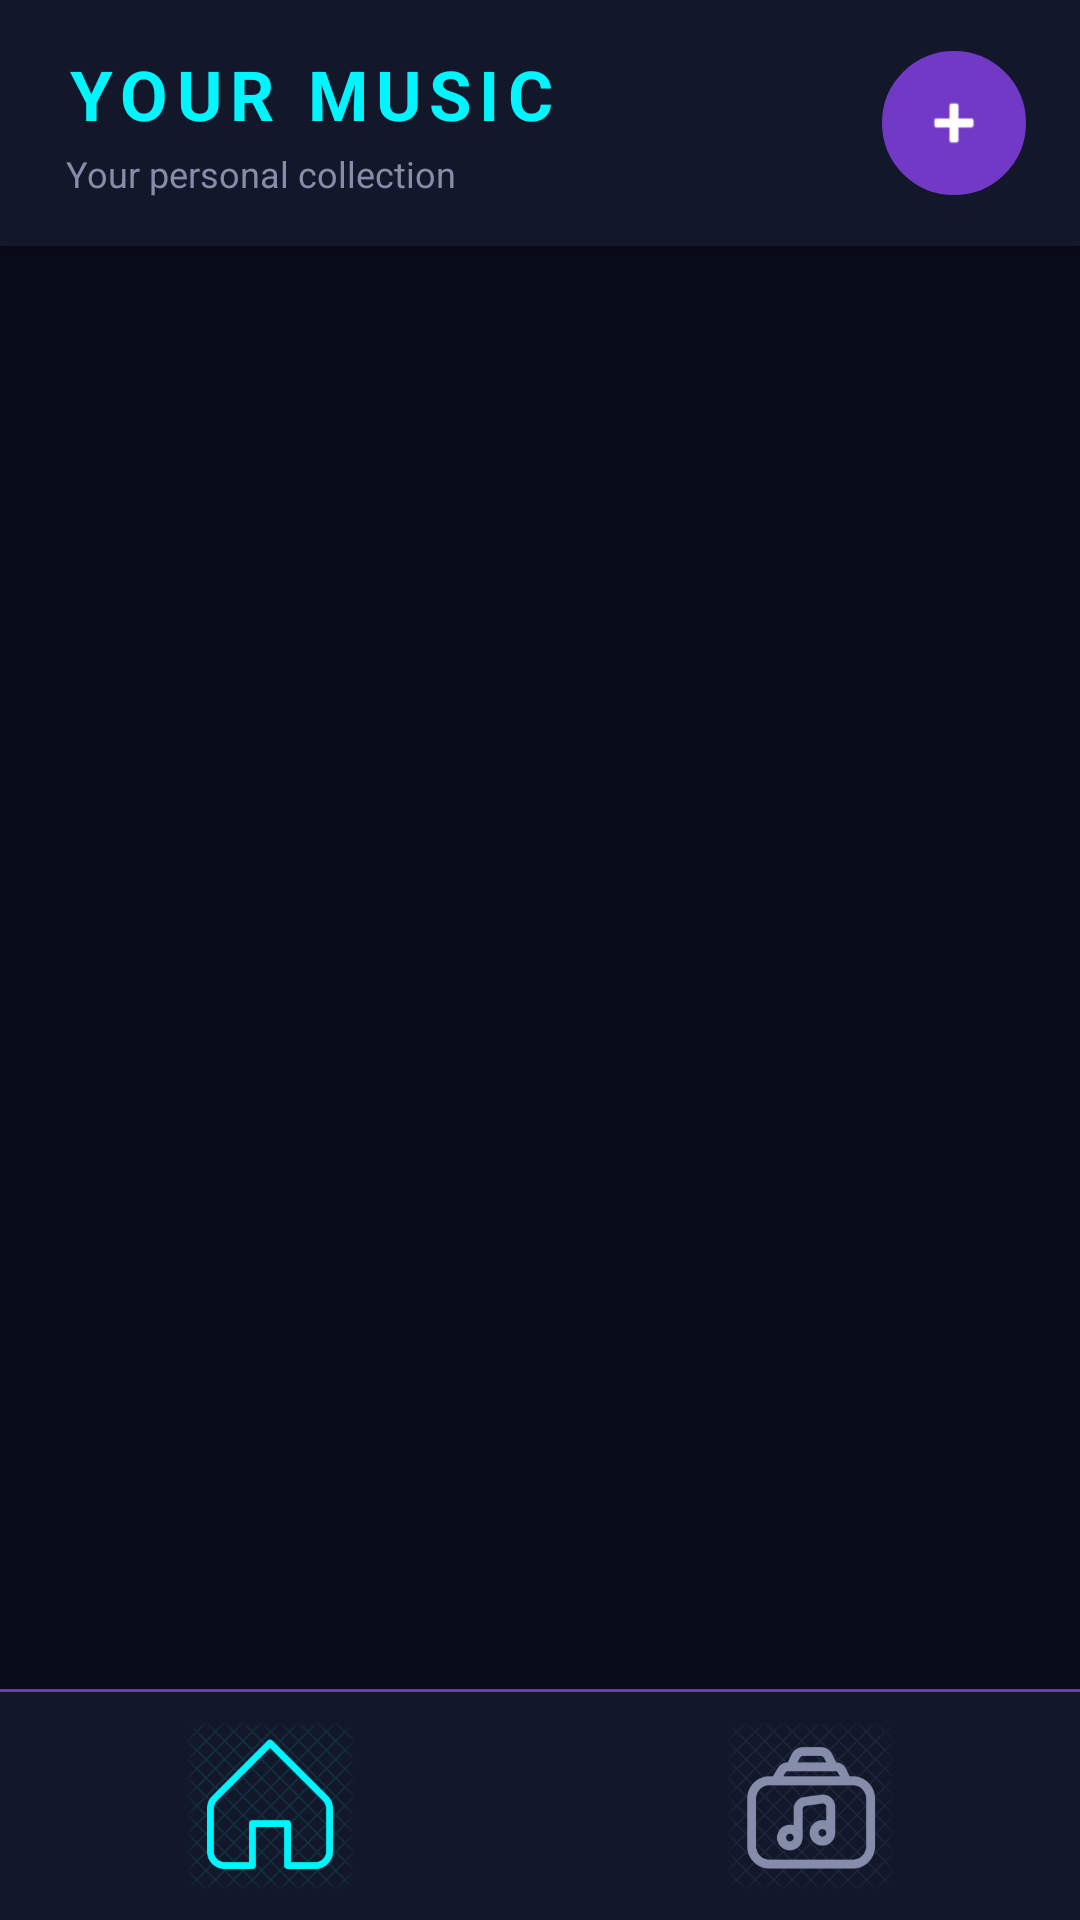

Icon click points for this 1080w x 1920h phone screenshot, format (x=x, y=y):
Add song: (x=954, y=123)
Home: (x=269, y=1806)
Library: (x=811, y=1808)
